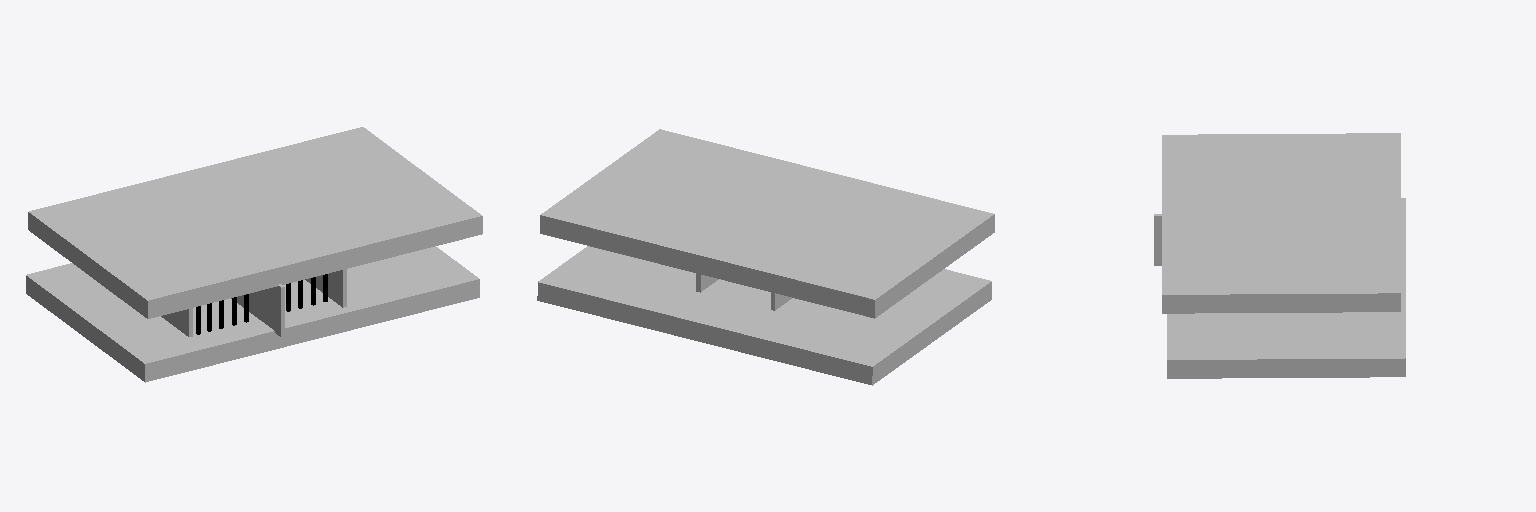
The model's file is prison.obj.
The picture shows the model from 3 angles: view 1: azimuth 30°, elevation 25°; view 2: azimuth 150°, elevation 25°; view 3: azimuth 270°, elevation 25°; orthographic projection.
Visible parts, largest first — view 1: Cube.003, Cube.008, Cube.004, Cube.005; view 2: Cube.003, Cube.008; view 3: Cube.003, Cube.008.
Boxes of the visible parts, box(x1,y1,x2,y2) form: Cube.003: box(28, 127, 482, 318); Cube.008: box(26, 246, 479, 382); Cube.004: box(237, 284, 284, 337); Cube.005: box(306, 269, 346, 307); Cube.003: box(540, 129, 994, 318); Cube.008: box(537, 246, 991, 385); Cube.003: box(1162, 133, 1400, 313); Cube.008: box(1167, 198, 1405, 378).
Bounding box in the file's own units: 60.12 × 15.2 × 39.17.